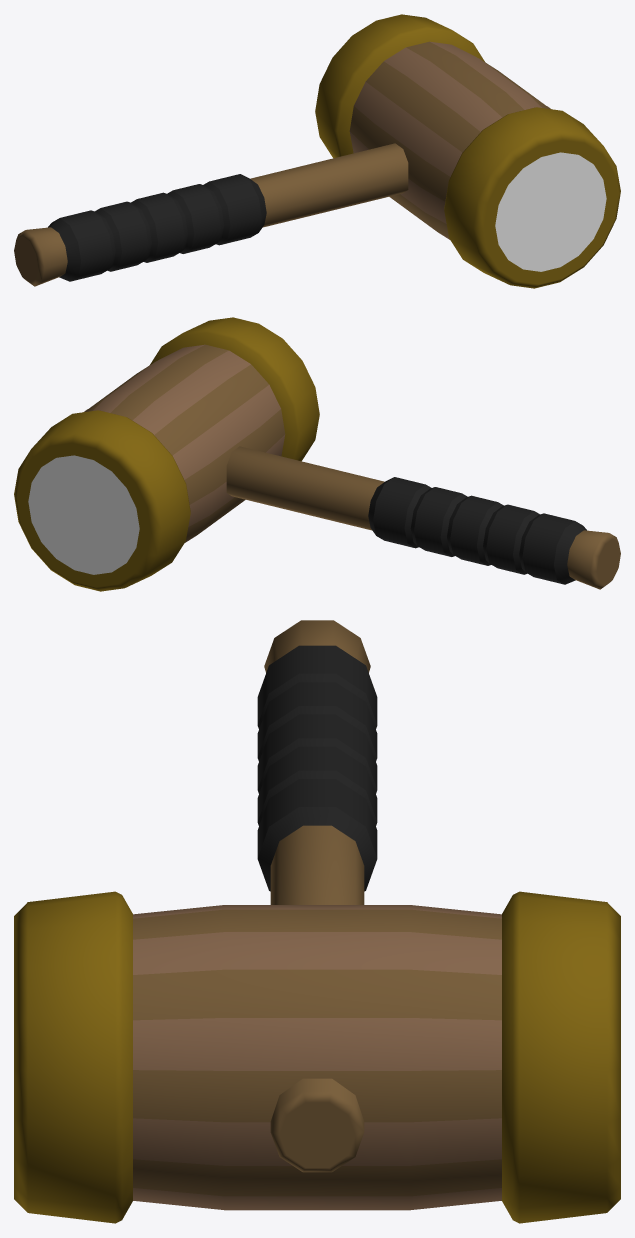
File: Mallet.FBX
3 views of the same model, one above another, from view 1: azimuth 30°, elevation 25°; view 2: azimuth 150°, elevation 25°; view 3: azimuth 270°, elevation 25° (orthographic). The views are drawn at different scales.
Visible parts, largest first — view 1: Mallet; view 2: Mallet; view 3: Mallet.
Part boxes in pixels (<box>): Mallet: <box>14,14,620,288</box>; Mallet: <box>14,317,620,591</box>; Mallet: <box>14,620,620,1223</box>.
Size of the model in its own units: 253 by 74.22 by 137.
